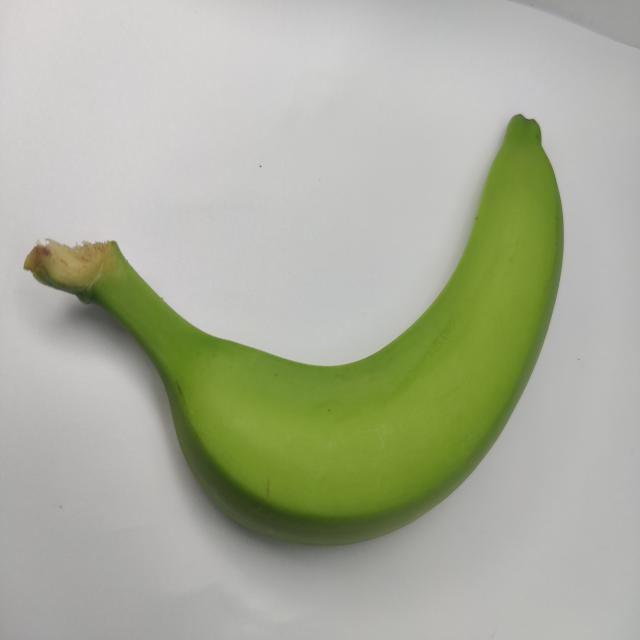raw: (19, 101, 581, 583)
